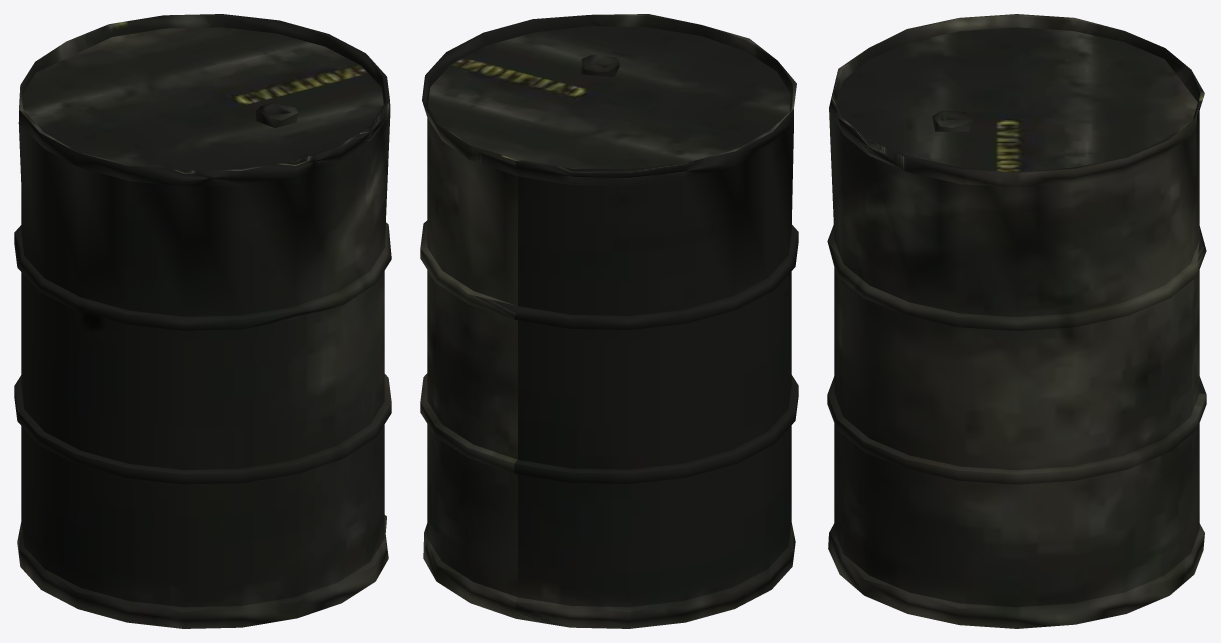
File: mb-barrel-fuel.lod0.glb
The picture shows the model from 3 angles, left to right: view 1: azimuth 30°, elevation 25°; view 2: azimuth 150°, elevation 25°; view 3: azimuth 270°, elevation 25°; orthographic projection.
Parts seen in each view (by area): view 1: barrel_fuel; view 2: barrel_fuel; view 3: barrel_fuel.
Boxes of the visible parts, bbox=[...] form: barrel_fuel: bbox=[14, 14, 391, 628]; barrel_fuel: bbox=[420, 14, 798, 628]; barrel_fuel: bbox=[827, 14, 1206, 628].
Bounding box in the file's own units: 0.6609 × 0.8784 × 0.6609.
Materials: 1 (1 with a texture image).
